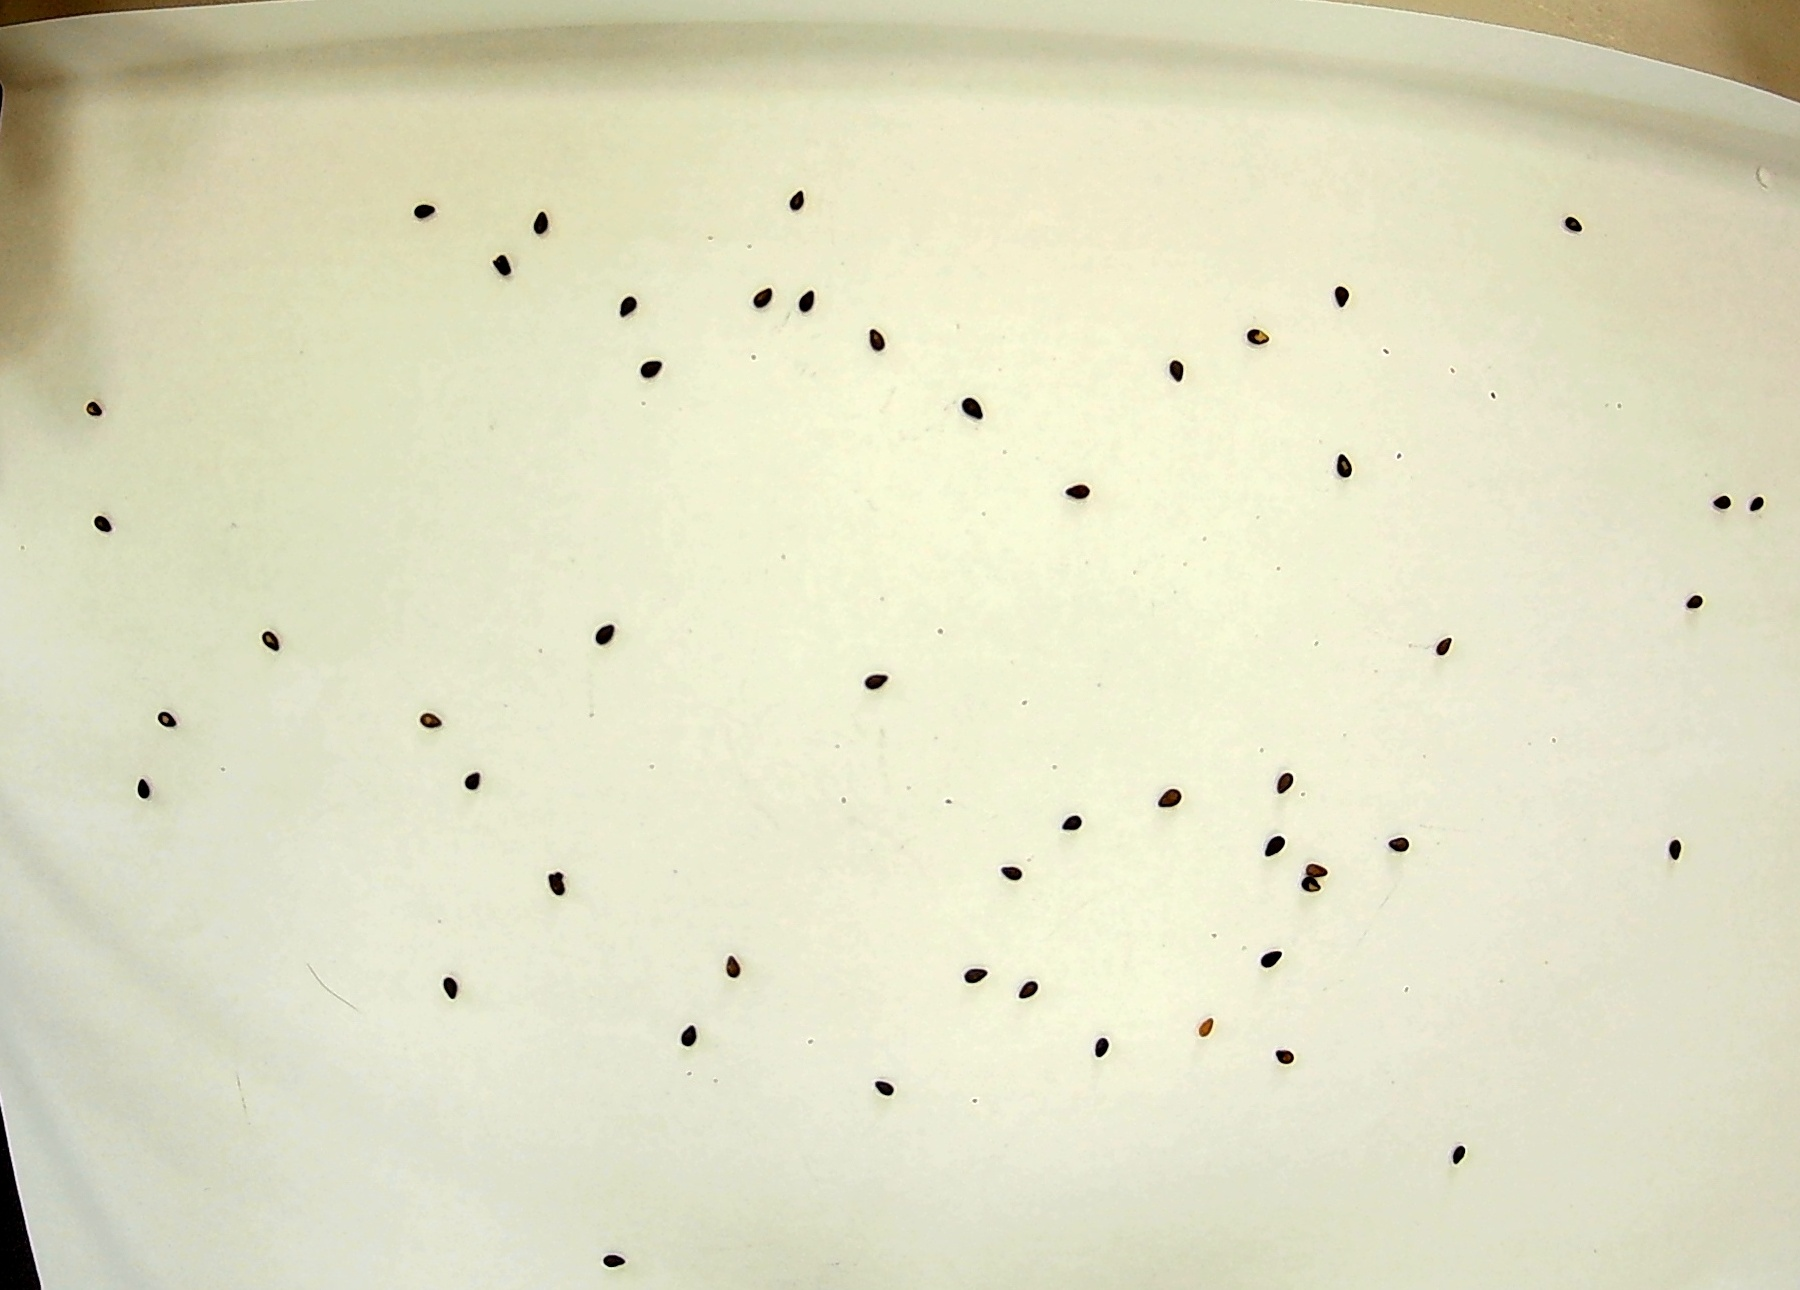sesami: (1702, 484, 1741, 514), (1319, 445, 1358, 475), (860, 666, 899, 695), (580, 620, 620, 649), (121, 776, 160, 806), (680, 1019, 719, 1048), (1266, 769, 1305, 799), (1007, 967, 1047, 997), (403, 194, 441, 223), (519, 207, 557, 236), (481, 253, 519, 282), (603, 293, 640, 322), (749, 278, 787, 307), (779, 281, 816, 310), (781, 183, 819, 212), (953, 396, 991, 426), (1323, 285, 1360, 314), (1553, 207, 1591, 236), (1739, 487, 1776, 517), (1679, 588, 1716, 617), (1423, 631, 1461, 660), (1053, 477, 1091, 507), (631, 350, 668, 380), (257, 620, 294, 649), (85, 514, 123, 543), (70, 395, 107, 424), (453, 761, 491, 790), (433, 980, 470, 1009), (532, 873, 569, 902), (705, 947, 742, 976), (592, 1245, 629, 1275), (957, 962, 995, 991), (1055, 803, 1093, 832), (1143, 785, 1180, 814), (1261, 826, 1299, 856), (1295, 845, 1333, 874), (1257, 941, 1295, 970), (1180, 1008, 1218, 1037), (1088, 1030, 1126, 1060), (1441, 1146, 1479, 1176), (1660, 838, 1700, 866), (857, 327, 894, 355), (1155, 357, 1193, 385), (1232, 322, 1270, 350), (149, 706, 187, 734), (407, 704, 445, 732), (861, 1067, 899, 1095), (988, 852, 1026, 880), (1381, 833, 1419, 861), (1299, 873, 1337, 900), (1259, 1041, 1296, 1069)
